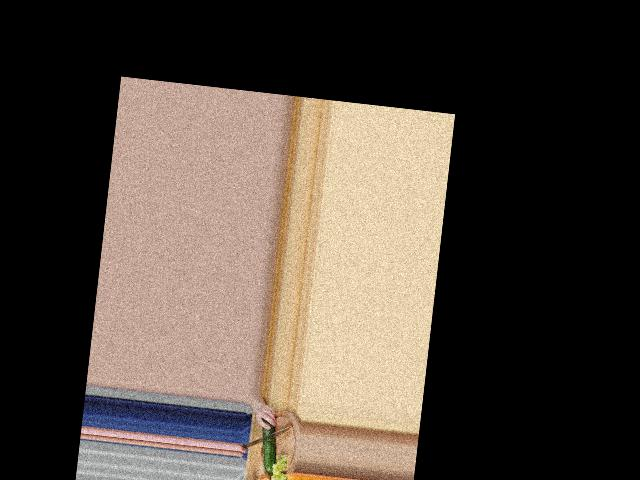cucumber: (257, 419, 280, 474)
